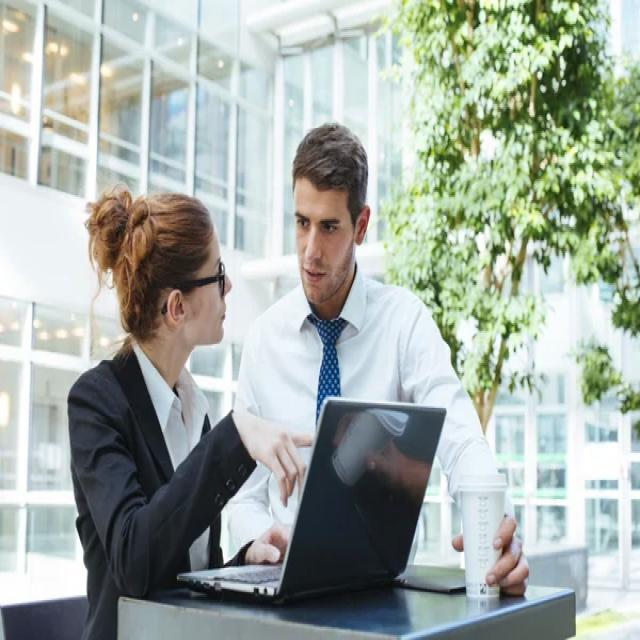adult: (228, 119, 531, 586), (65, 190, 315, 640)
